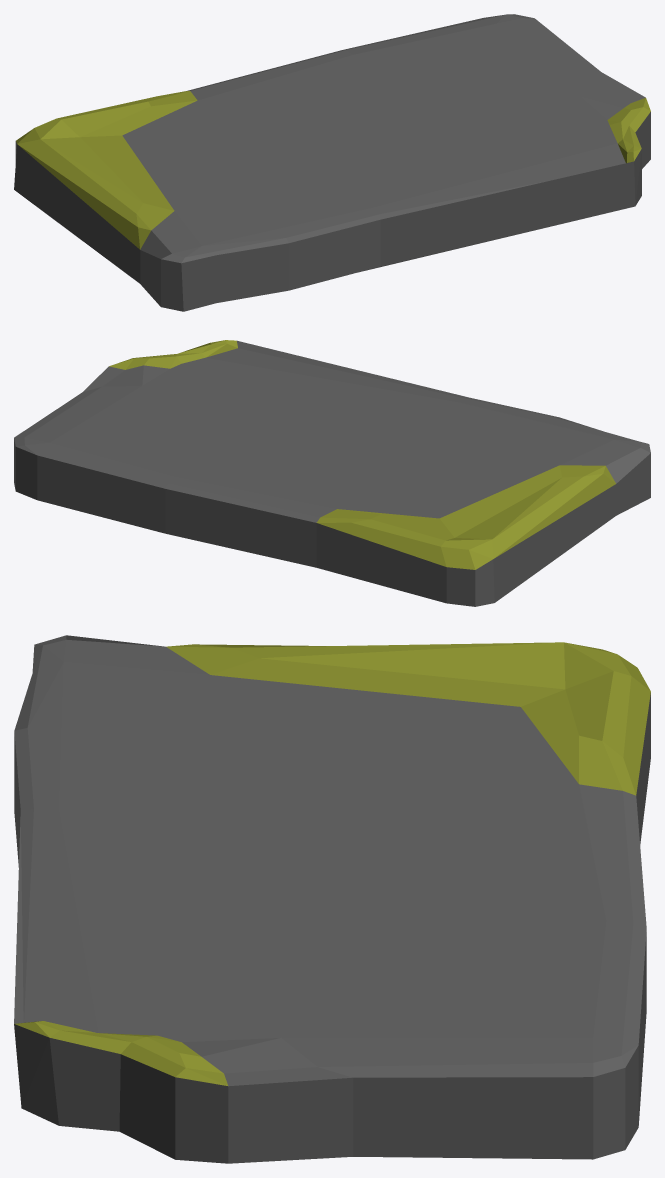
Rendered from tile_moss_type_3_LOD1.fbx.
3 renders of one model, top to bottom at view 1: azimuth 30°, elevation 25°; view 2: azimuth 150°, elevation 25°; view 3: azimuth 270°, elevation 25°, orthographic. The views are drawn at different scales.
Parts seen in each view (by area): view 1: tile_moss_type_3; view 2: tile_moss_type_3; view 3: tile_moss_type_3.
Part boxes in pixels (x1,y1,x2,y2): tile_moss_type_3: (14,14,650,311); tile_moss_type_3: (14,340,650,606); tile_moss_type_3: (14,635,650,1163).
Size of the model in its own units: 199 by 22.01 by 120.
